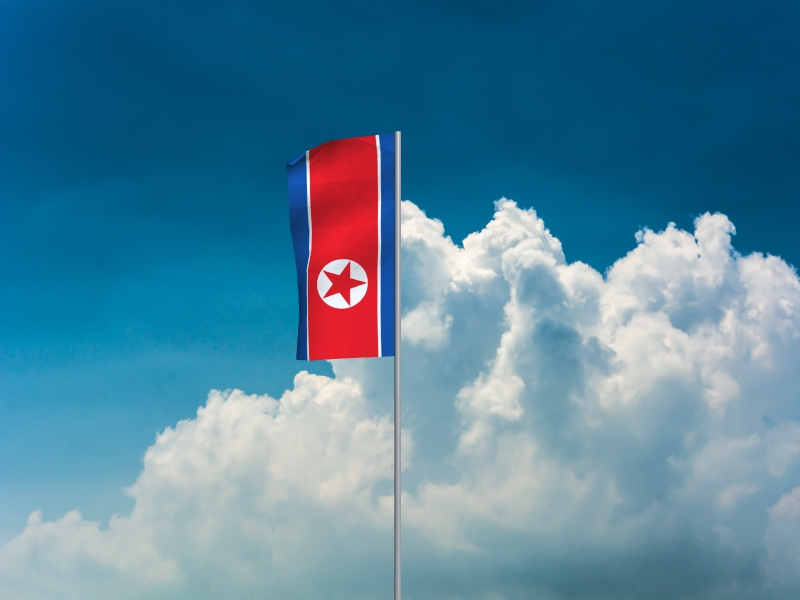kp: (286, 133, 395, 363)
